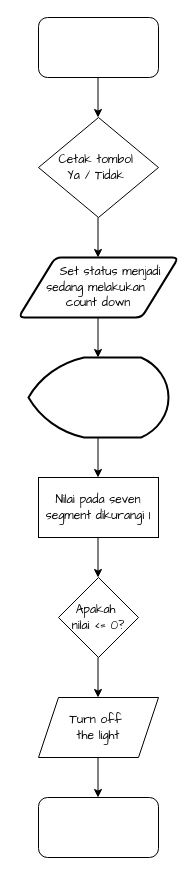
Image size: 196x875. Some labels were removed from this diagram. The shapes that lost their labels are listed below. From the top down, each one's centre as x and y in pixels, then its label:
point (98, 47): Start
point (98, 397): Angka pada seven segment ditampilkan sesuai dengan nilai yang ada
point (98, 827): End
